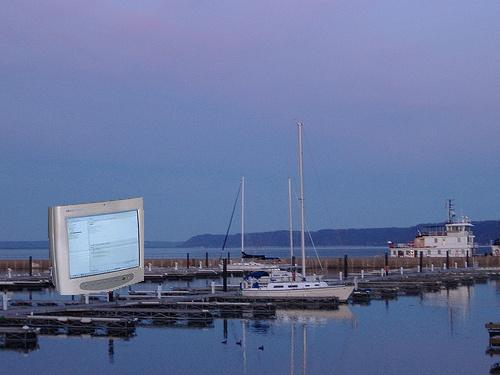tampered: (49, 198, 144, 295)
